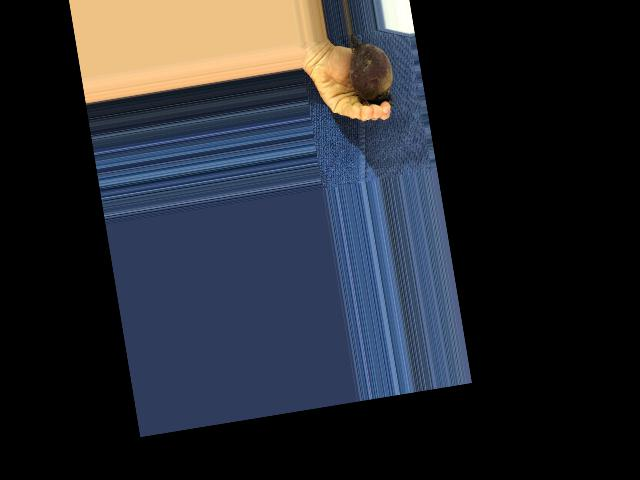beet: (342, 29, 397, 113)
